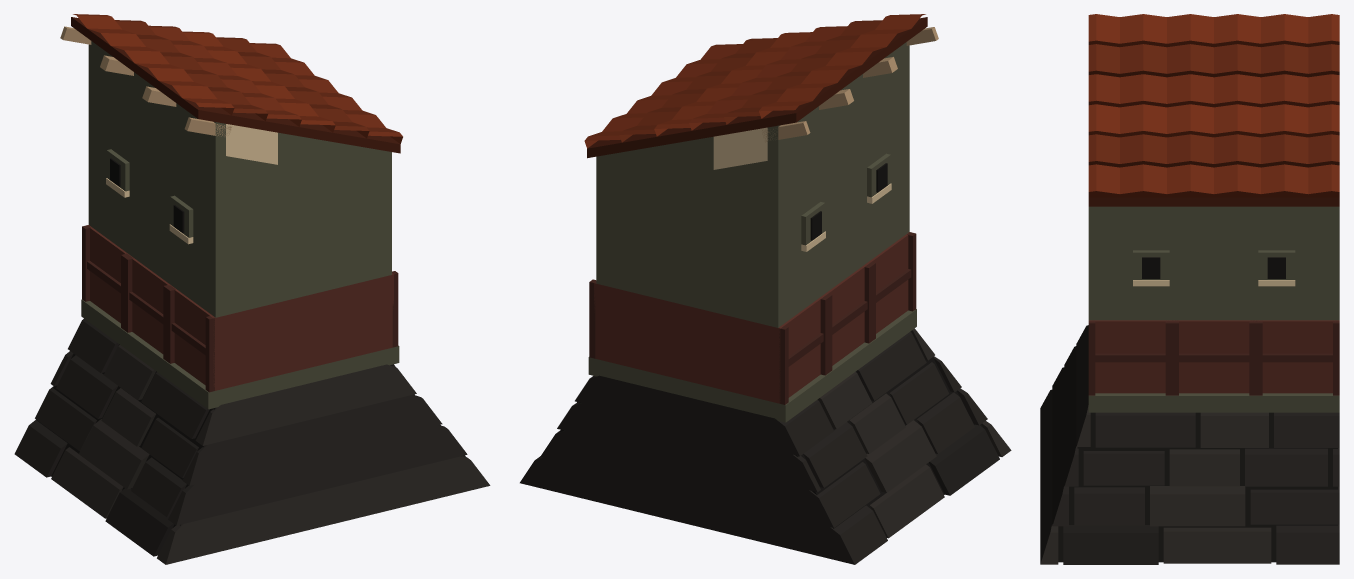
Rendered from VerWall04.glb.
The picture shows the model from 3 angles, left to right: view 1: azimuth 30°, elevation 25°; view 2: azimuth 150°, elevation 25°; view 3: azimuth 270°, elevation 25°; orthographic projection. The views are drawn at different scales.
Parts seen in each view (by area): view 1: VerWall04_mortar; view 2: VerWall04_mortar; view 3: VerWall04_mortar.
Boxes of the visible parts, left/top/right/bottom form: VerWall04_mortar: left=14, top=14, right=490, bottom=564; VerWall04_mortar: left=520, top=14, right=1011, bottom=564; VerWall04_mortar: left=1040, top=14, right=1339, bottom=564.
Size of the model in its own units: 4.44 by 5.57 by 3.58.
